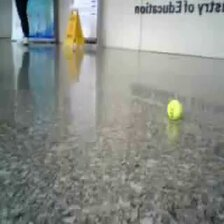tennis: (166, 100, 183, 120)
